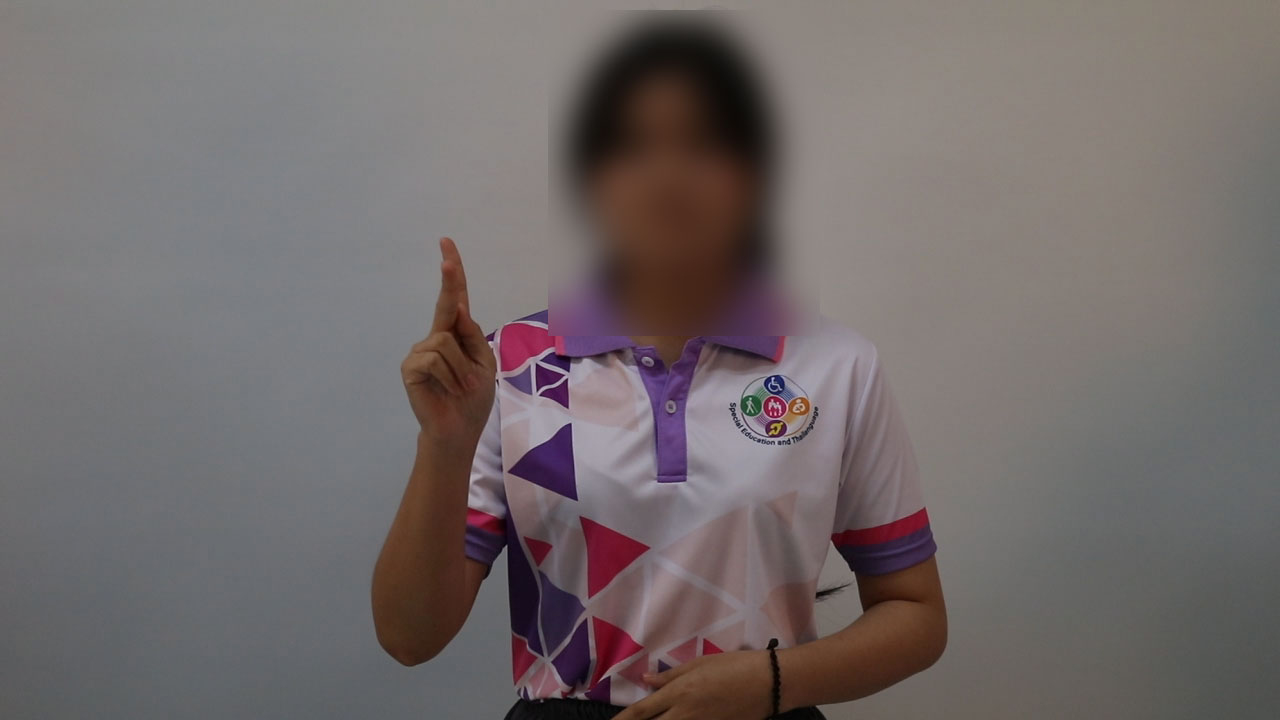ko: (389, 229, 501, 442)
